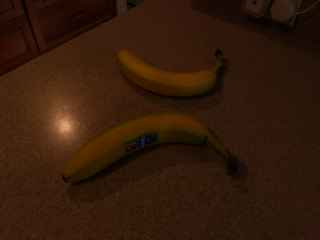banana: (59, 110, 244, 186), (114, 43, 230, 102)
